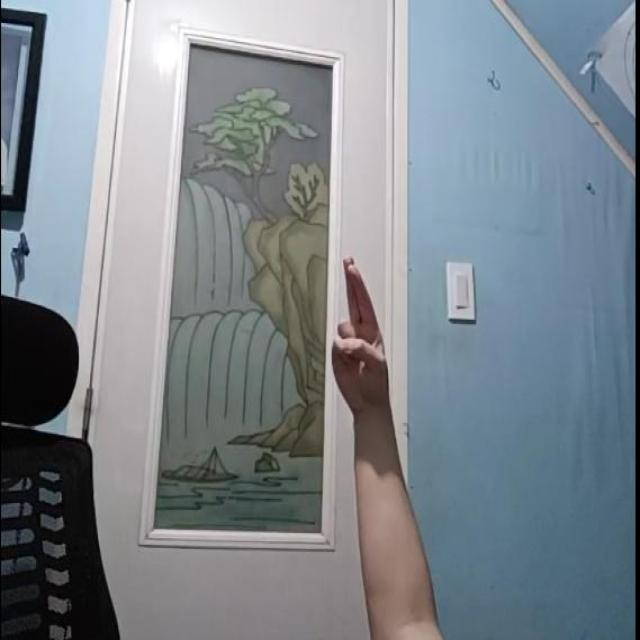R: (331, 253, 390, 407)
